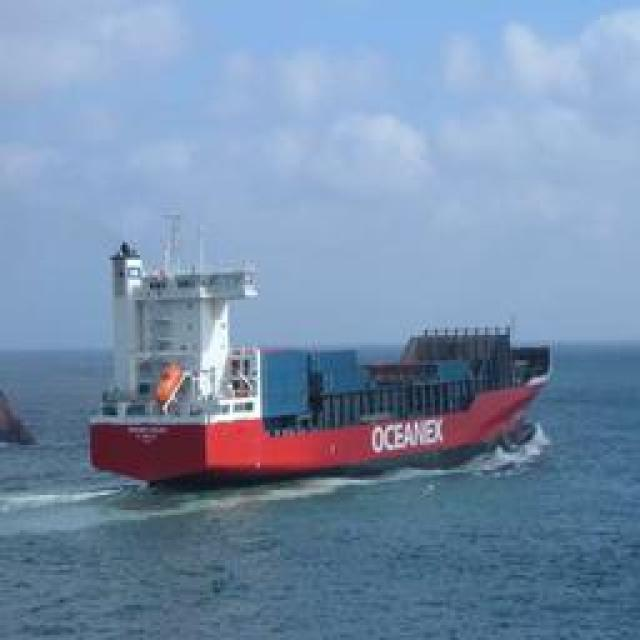ship2: (86, 210, 554, 493)
